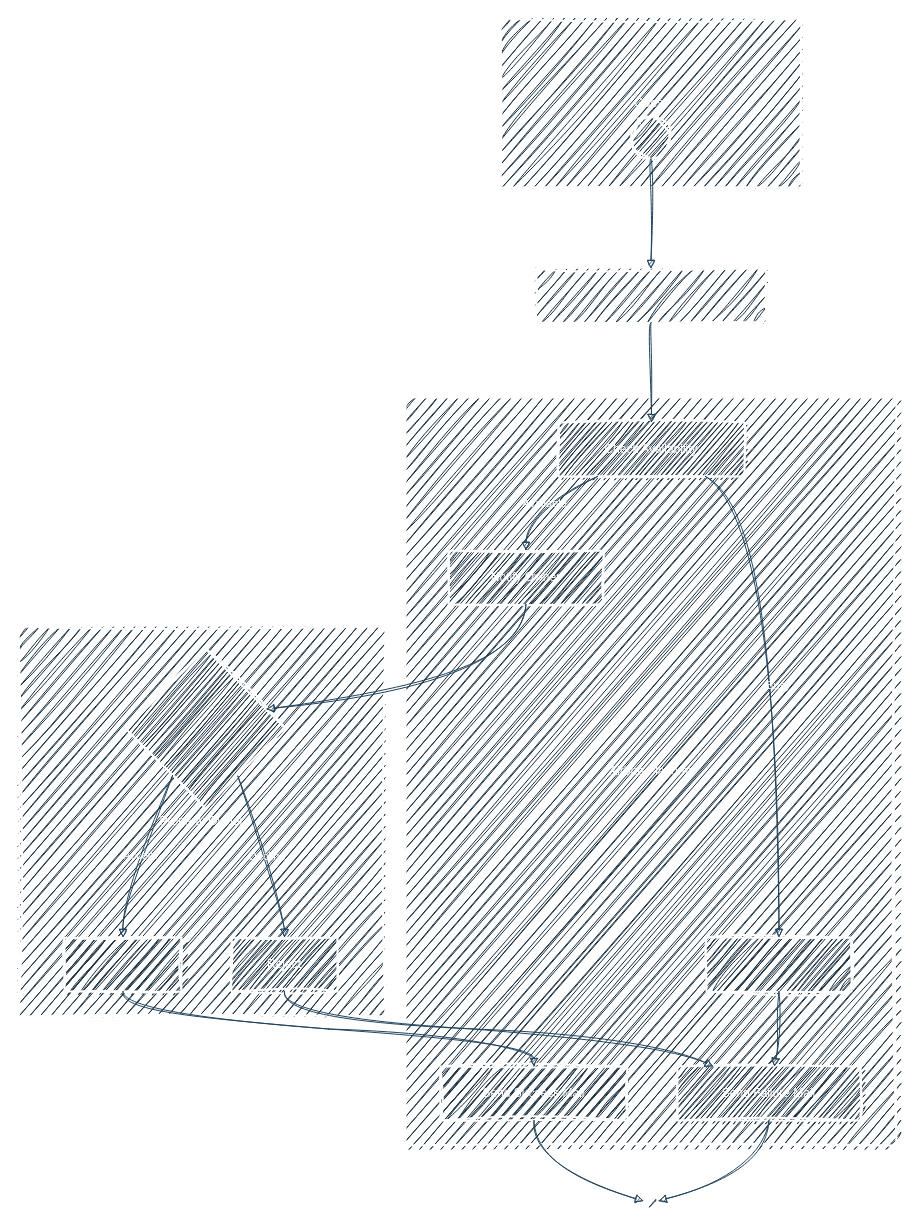
The diagram is 914 pixels wide and 1228 high, and some of its shapes have lost their labels. The box of each missing label's shape, as (x1, y1, x2, y2) in pixels:
Auto-Reject: (705, 936, 852, 992)
Confirm: (63, 936, 182, 992)
Manual Review: (124, 647, 286, 809)
Submit Booking Request: (534, 267, 767, 323)
